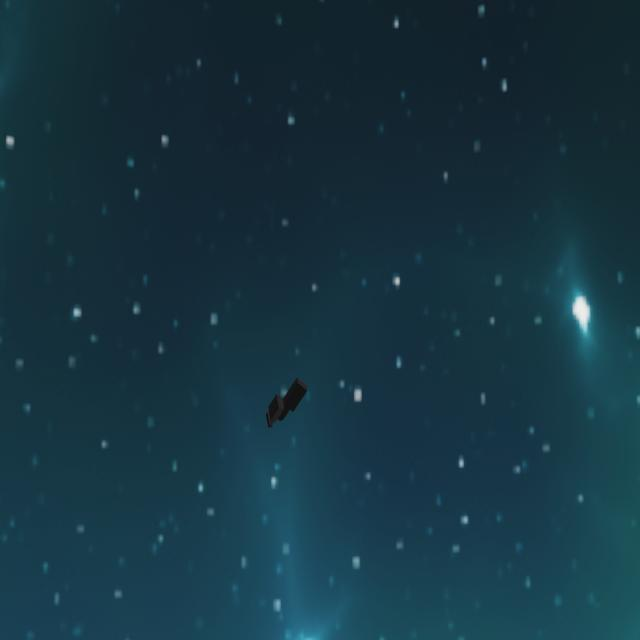large_debris: (267, 374, 309, 443)
